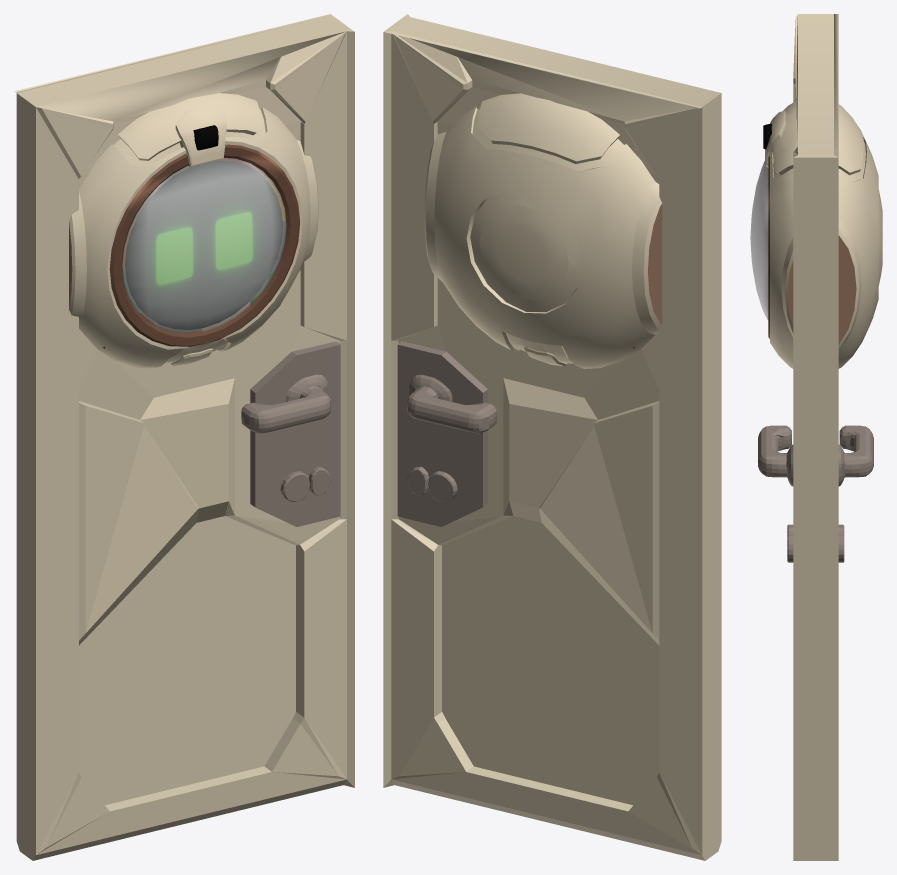
Rendered from Puerta animada.fbx.
3 views of the same model, side by side, from view 1: azimuth 30°, elevation 25°; view 2: azimuth 150°, elevation 25°; view 3: azimuth 270°, elevation 25° (orthographic). The views are drawn at different scales.
Parts seen in each view (by area): view 1: Puerta.002, Body, Lente, Interior lente; view 2: Puerta.002, Body; view 3: Puerta.002, Body, Lente.
Part boxes in pixels (x1,y1,x2,y2): Puerta.002: (14,14,354,860); Body: (69,93,318,368); Lente: (122,158,286,333); Interior lente: (125,160,282,329); Puerta.002: (383,14,721,860); Body: (424,93,662,368); Puerta.002: (758,14,873,860); Body: (763,101,882,368); Lente: (750,161,768,320).
Size of the model in its own units: 0.8211 by 1.88 by 0.3195.
Materials: 6 (3 with a texture image).
